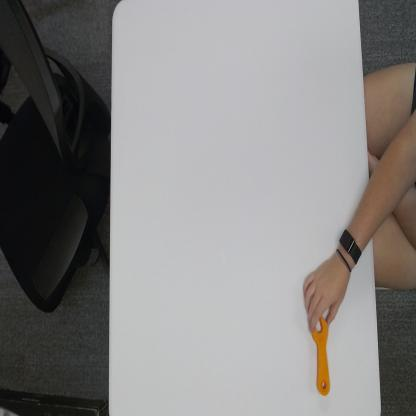Arm: (356, 177, 375, 247)
Hand: (302, 252, 351, 333)
Screwdriver: (310, 314, 332, 398)
